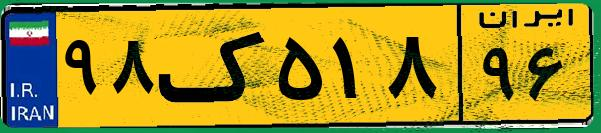1: (330, 28, 385, 110)
5: (270, 28, 330, 110)
6: (525, 38, 570, 115)
8: (385, 28, 445, 110), (110, 28, 158, 98)
9: (57, 26, 110, 100), (475, 38, 525, 113)
ک: (158, 12, 270, 120)
